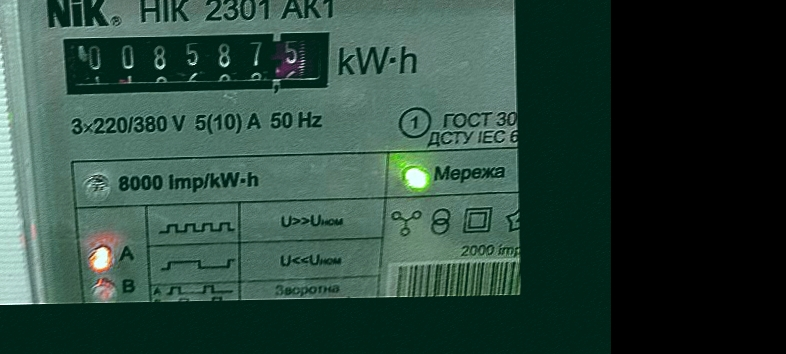0: (84, 39, 101, 68), (118, 39, 135, 67)
5: (282, 35, 299, 64), (182, 37, 199, 65)
7: (246, 35, 263, 65)
8: (214, 36, 231, 66), (150, 39, 166, 68)
screen: (43, 14, 347, 103)
